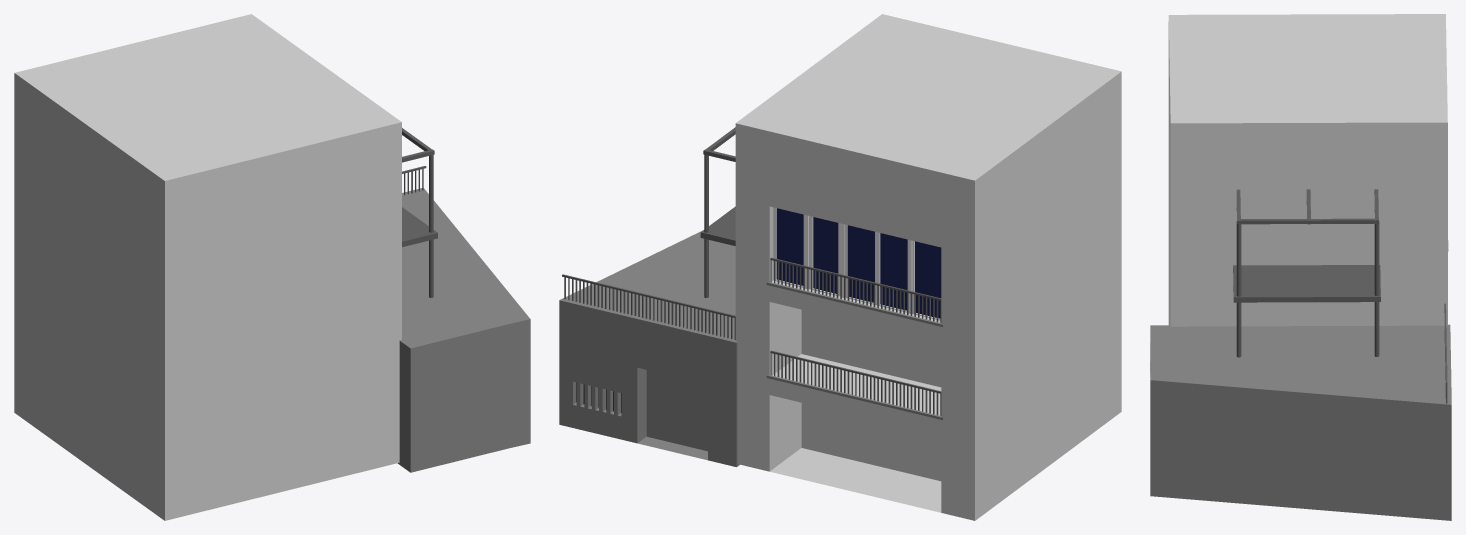
Rendered from CantinaDelVino.fbx.
3 renders of one model, left to right at view 1: azimuth 30°, elevation 25°; view 2: azimuth 150°, elevation 25°; view 3: azimuth 270°, elevation 25°, orthographic. The views are drawn at different scales.
Visible parts, largest first — view 1: Cube.8931, Cube.8938, Cube.8922, Cylinder.011; view 2: Cube.8931, Cube.8938, Cube.8932, Cube.8929, Cube.8930, Cube.8936, Cube.8934, Cube.8933, Cube.8935, Cube.8922, Cube.8927, Cube.8928 (+1 smaller); view 3: Cube.8931, Cube.8938, Cube.8922, Cylinder.011, Cylinder.010, Cube.8925.
Boxes of the visible parts, left/top/right/bottom form: Cube.8931: left=14, top=14, right=401, bottom=520; Cube.8938: left=397, top=188, right=530, bottom=472; Cube.8922: left=402, top=207, right=437, bottom=247; Cylinder.011: left=429, top=153, right=433, bottom=297; Cube.8931: left=735, top=14, right=1121, bottom=520; Cube.8938: left=559, top=230, right=739, bottom=467; Cube.8932: left=776, top=208, right=941, bottom=318; Cube.8929: left=770, top=350, right=941, bottom=415; Cube.8930: left=770, top=257, right=941, bottom=322; Cube.8936: left=562, top=274, right=735, bottom=339; Cube.8934: left=809, top=216, right=878, bottom=305; Cube.8933: left=773, top=207, right=840, bottom=296; Cube.8935: left=878, top=232, right=940, bottom=320; Cube.8922: left=700, top=206, right=735, bottom=245; Cube.8927: left=766, top=282, right=943, bottom=326; Cube.8928: left=766, top=375, right=943, bottom=419; Cube.8931: left=1168, top=14, right=1447, bottom=326; Cube.8938: left=1150, top=324, right=1451, bottom=520; Cube.8922: left=1233, top=265, right=1380, bottom=302; Cylinder.011: left=1236, top=221, right=1241, bottom=357; Cylinder.010: left=1374, top=221, right=1379, bottom=356; Cube.8925: left=1241, top=218, right=1378, bottom=224.
Bounding box in the file's own units: 1215 × 963 × 825.
